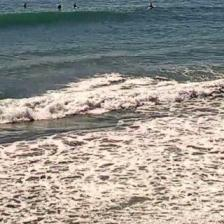surfer: (149, 3, 155, 10), (72, 3, 79, 9), (57, 3, 62, 10), (22, 3, 27, 8)
